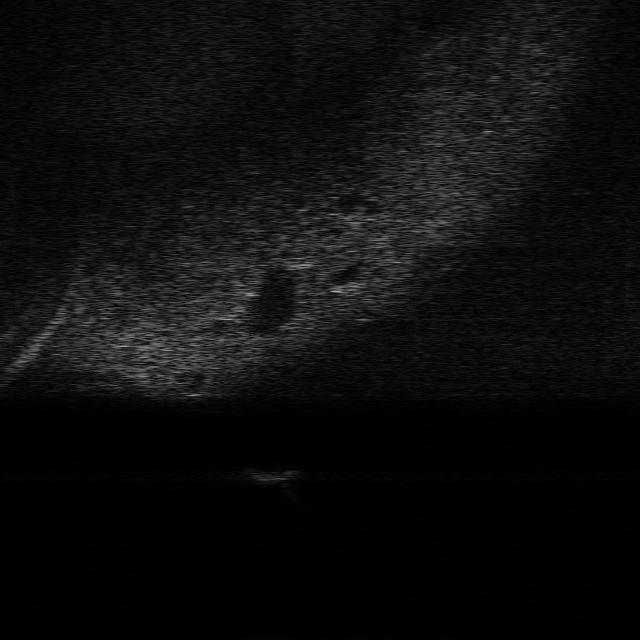cube: (242, 466, 302, 484)
